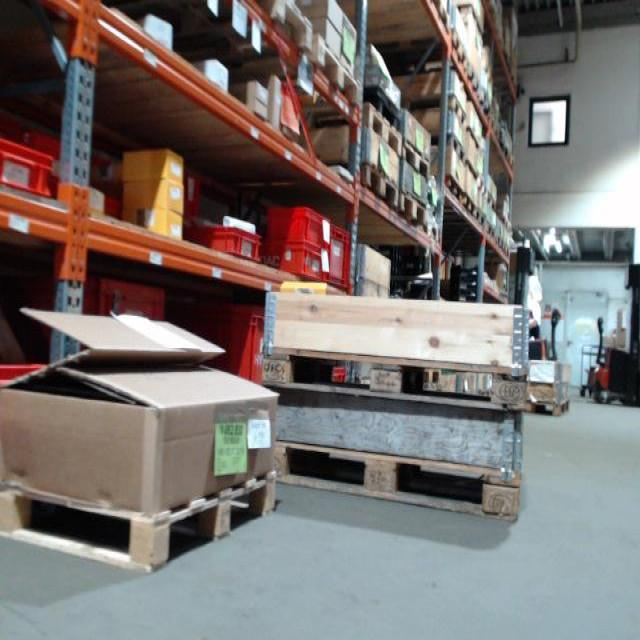pallet: (2, 457, 281, 571), (266, 439, 519, 524), (257, 342, 527, 410), (202, 37, 367, 107), (213, 2, 320, 54), (313, 103, 404, 163), (341, 161, 401, 215), (365, 85, 404, 133), (401, 140, 434, 184), (404, 4, 448, 37), (400, 192, 431, 234), (518, 396, 573, 412), (448, 132, 467, 160), (445, 175, 463, 201), (449, 97, 465, 124)
pallet_truck: (591, 251, 638, 407), (510, 242, 569, 366)
small_load_carrier: (209, 296, 280, 390), (252, 241, 326, 293), (2, 136, 54, 209), (268, 200, 332, 248), (190, 224, 261, 258), (326, 217, 351, 288)
